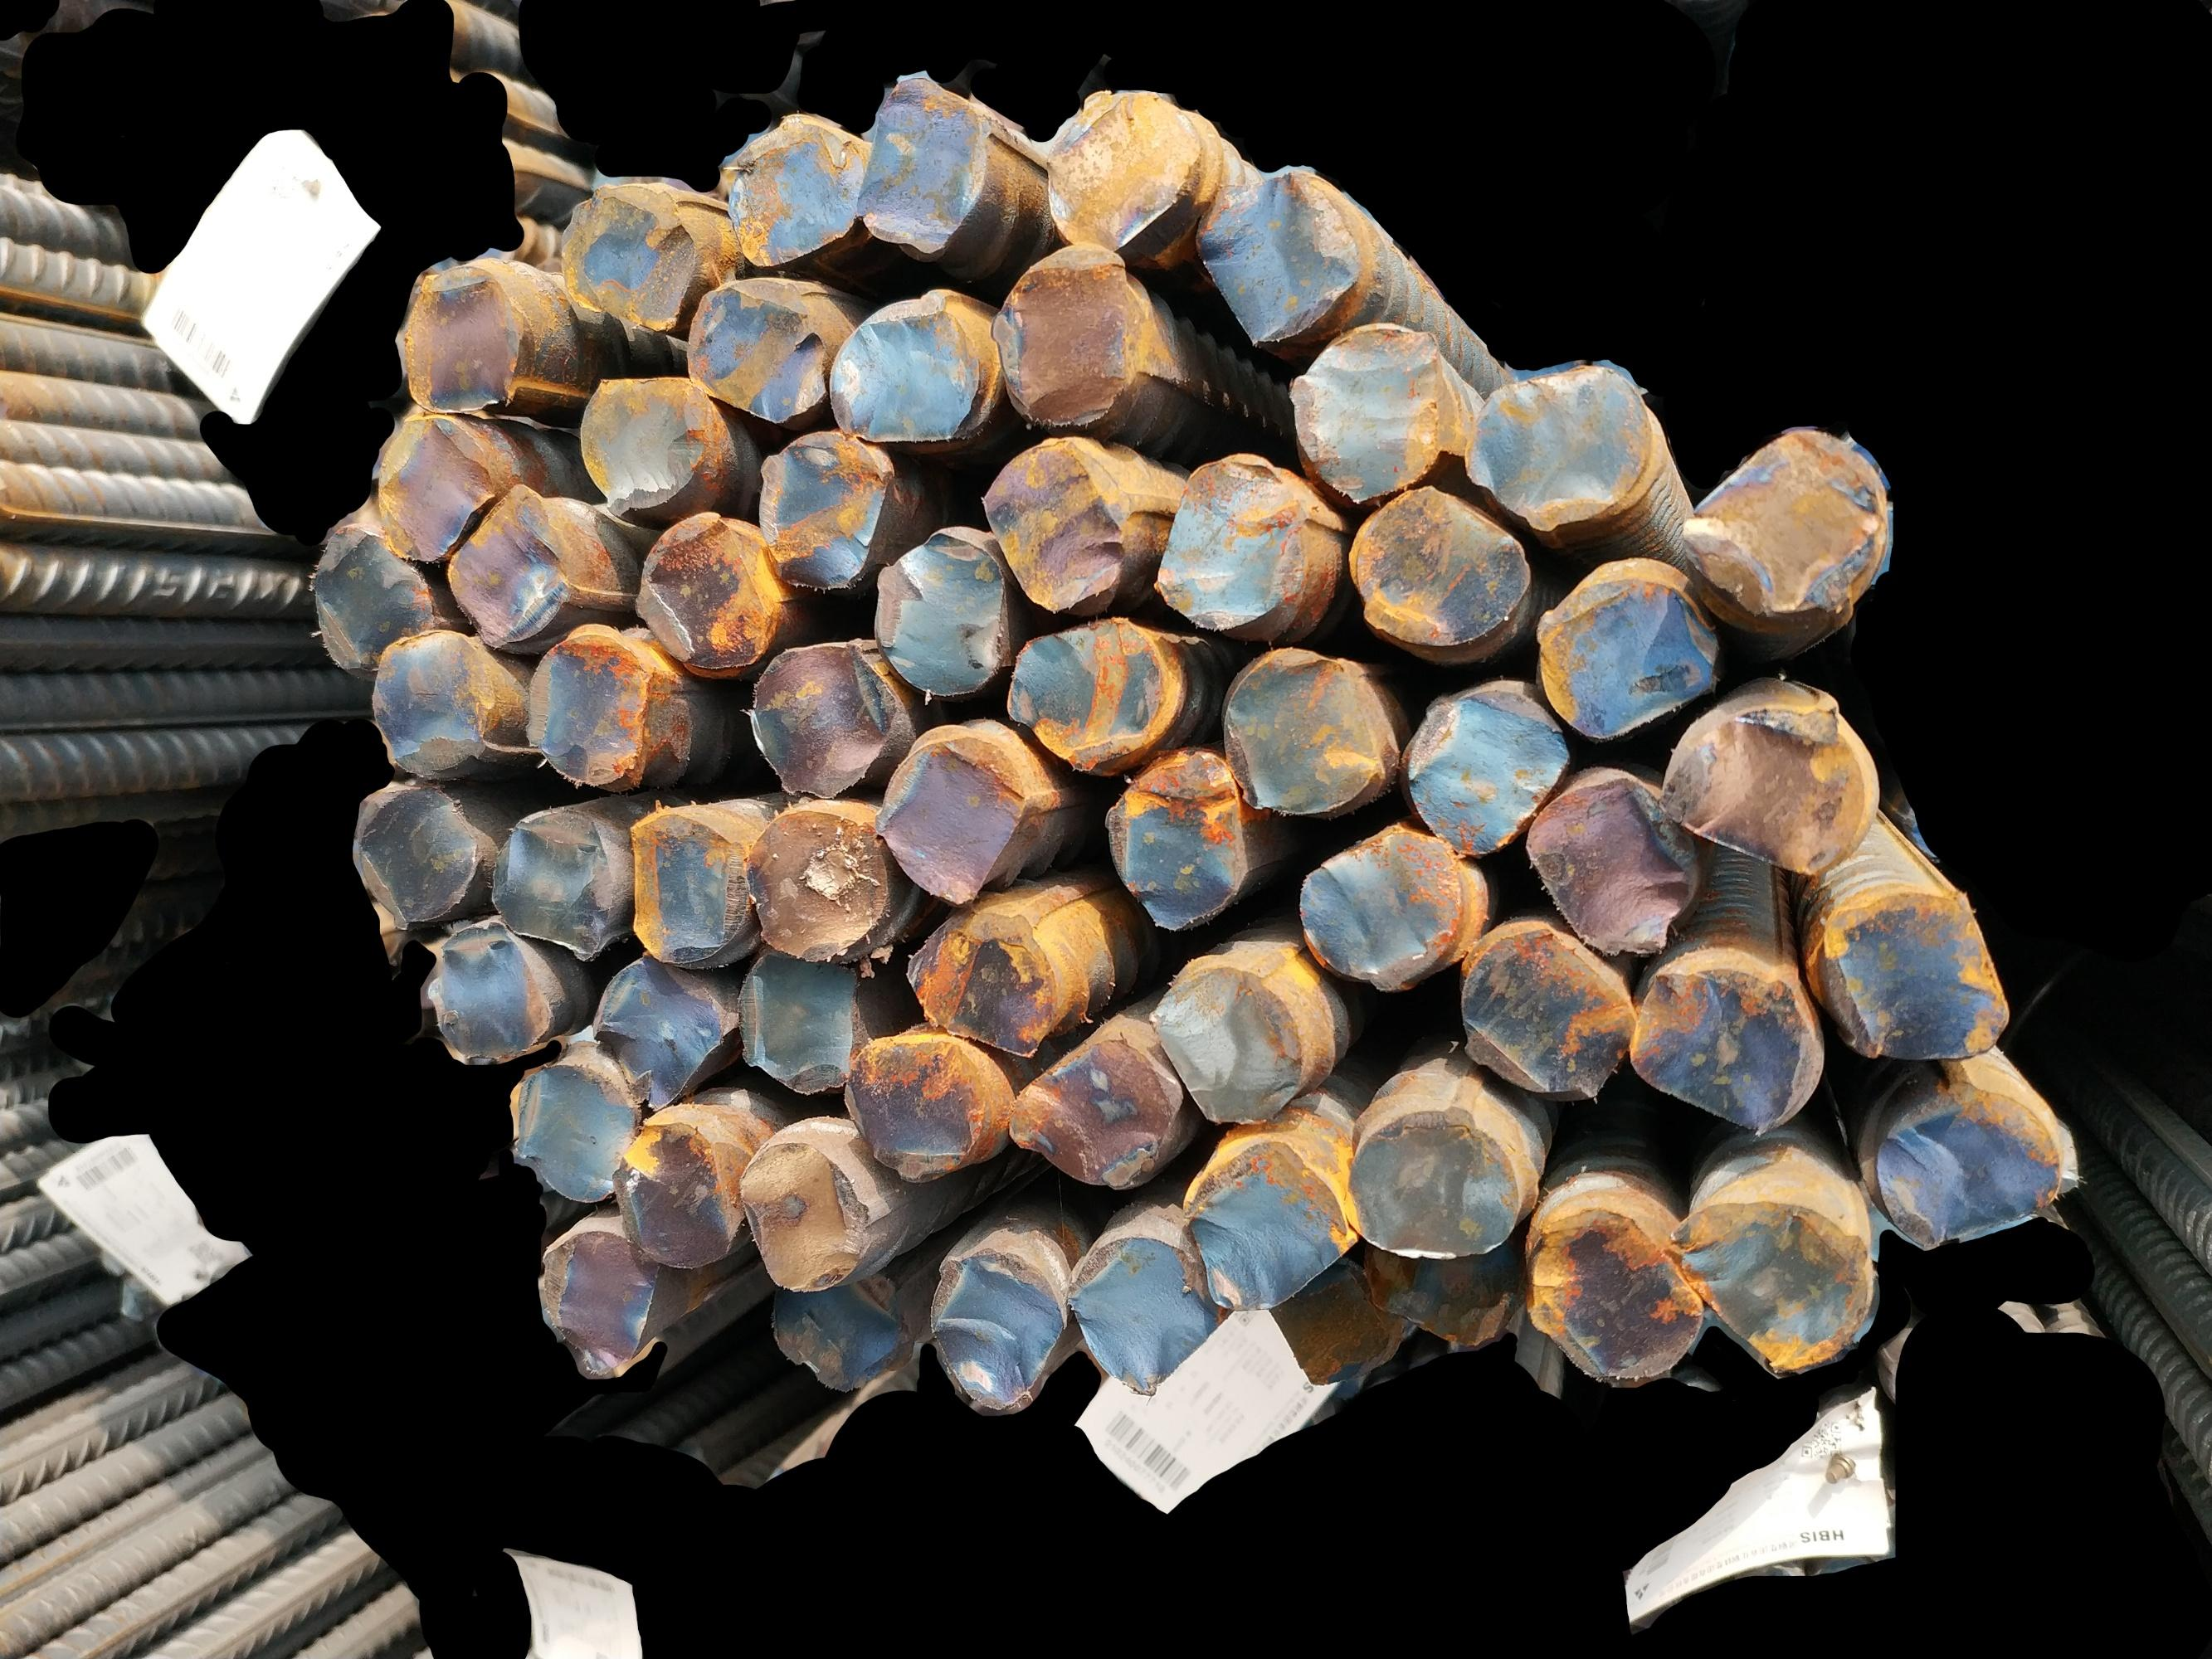bar: (1675, 420, 1895, 619), (1663, 1192, 1881, 1378), (1658, 695, 1874, 878), (1863, 1070, 2078, 1251), (1806, 889, 2017, 1065), (1520, 770, 1708, 960), (1529, 554, 1719, 741), (1621, 957, 1816, 1138), (1462, 354, 1654, 535), (1452, 918, 1637, 1100), (1518, 1208, 1706, 1385), (1346, 477, 1534, 653), (1177, 1140, 1353, 1321), (1279, 315, 1450, 502), (1401, 673, 1571, 861), (1002, 610, 1192, 777), (1191, 164, 1365, 345), (1096, 741, 1253, 938), (988, 240, 1149, 432), (1215, 643, 1393, 816), (866, 730, 1037, 910), (1293, 819, 1469, 992), (1152, 450, 1311, 636), (1006, 1030, 1187, 1192), (1342, 1105, 1525, 1263), (1147, 960, 1311, 1134), (976, 436, 1130, 617), (743, 636, 903, 809), (1063, 1232, 1222, 1401), (849, 75, 994, 256), (868, 519, 1011, 699), (1044, 85, 1196, 253), (901, 904, 1060, 1063), (587, 950, 741, 1114), (828, 288, 987, 443), (840, 1032, 999, 1185), (556, 178, 708, 338), (633, 505, 774, 674), (743, 803, 892, 962), (753, 432, 899, 594), (924, 1246, 1067, 1412), (723, 112, 870, 272), (734, 1138, 879, 1297), (730, 946, 879, 1100), (444, 477, 575, 650), (519, 619, 654, 784), (680, 281, 831, 427), (573, 364, 716, 519), (399, 254, 533, 416), (309, 518, 441, 681), (622, 798, 748, 969), (502, 1054, 640, 1209), (486, 803, 622, 960), (608, 1112, 739, 1272), (368, 624, 500, 781), (373, 408, 502, 568), (347, 779, 485, 927), (1354, 1232, 1527, 1349), (532, 1223, 664, 1375), (422, 917, 556, 1063), (760, 1269, 913, 1392), (1260, 1274, 1403, 1387)
